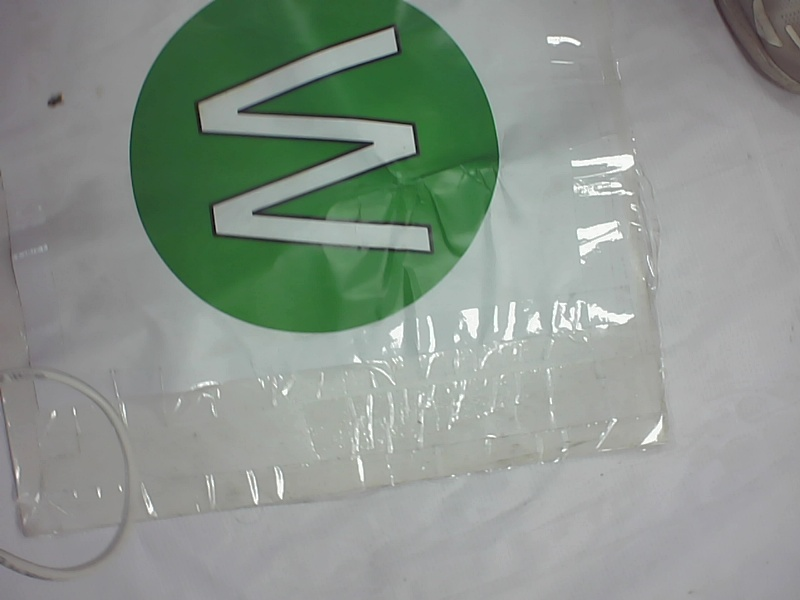areaB: (118, 4, 503, 342)
